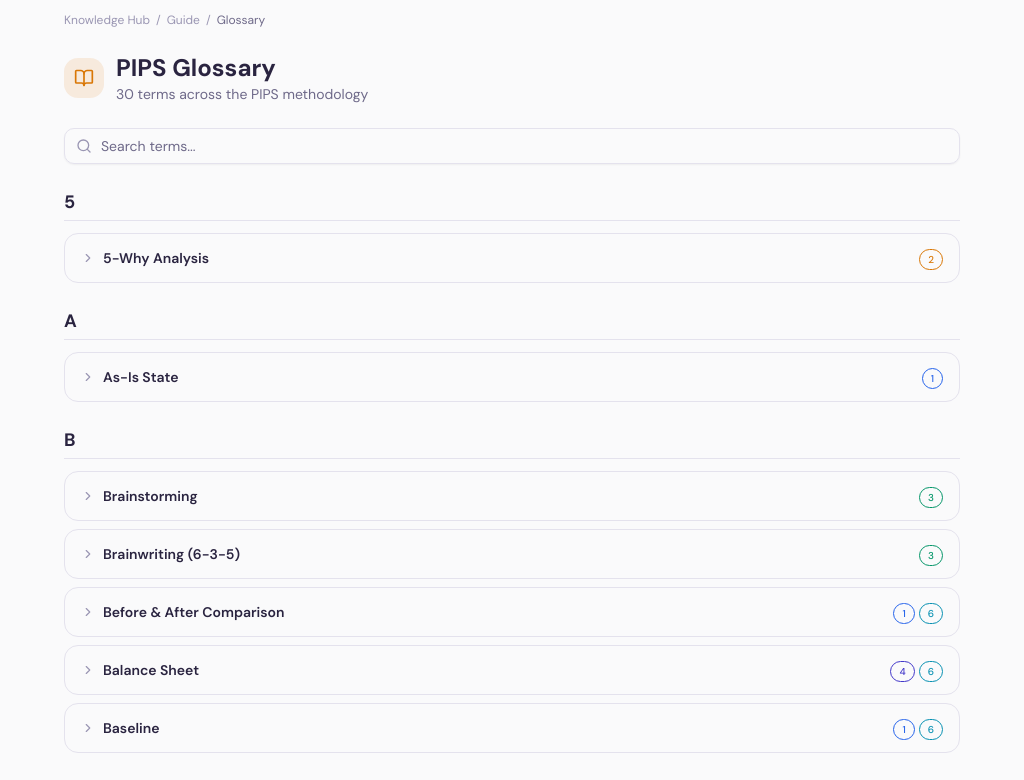
GlossaryPage › shows no-results message for unmatched search
Type "zzzznonexistent" into the field with test id "glossary-search" at x=512, y=146, box [64, 128, 960, 164]
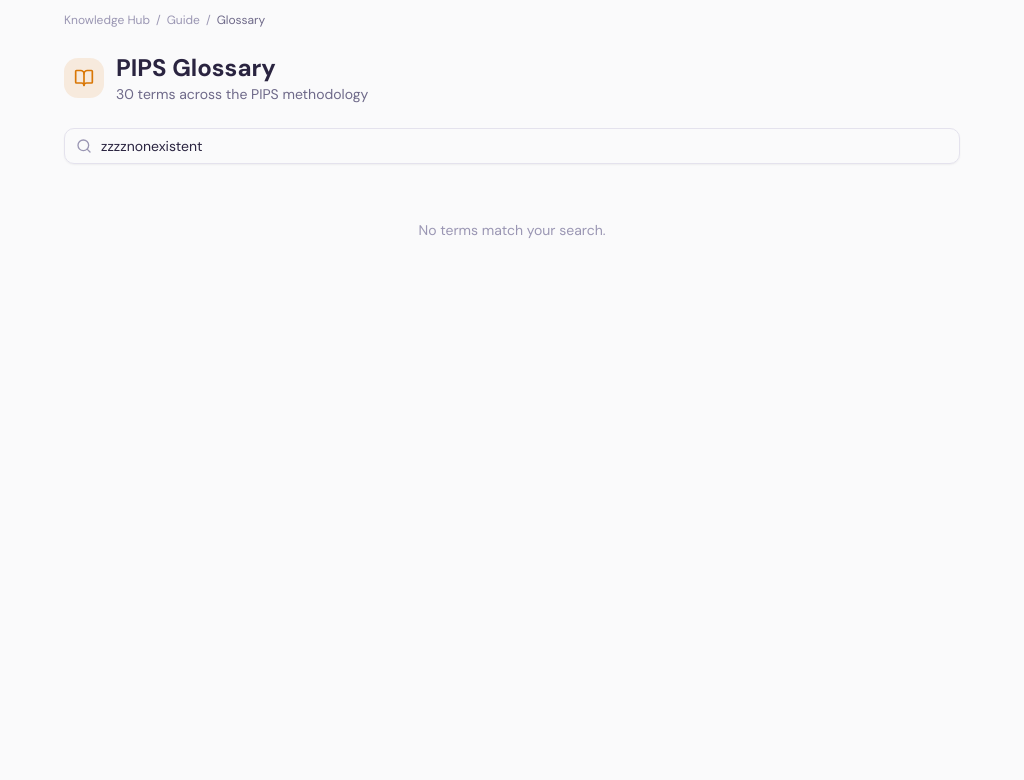
Now the text "No terms match your search." is shown, box [418, 221, 606, 239]
